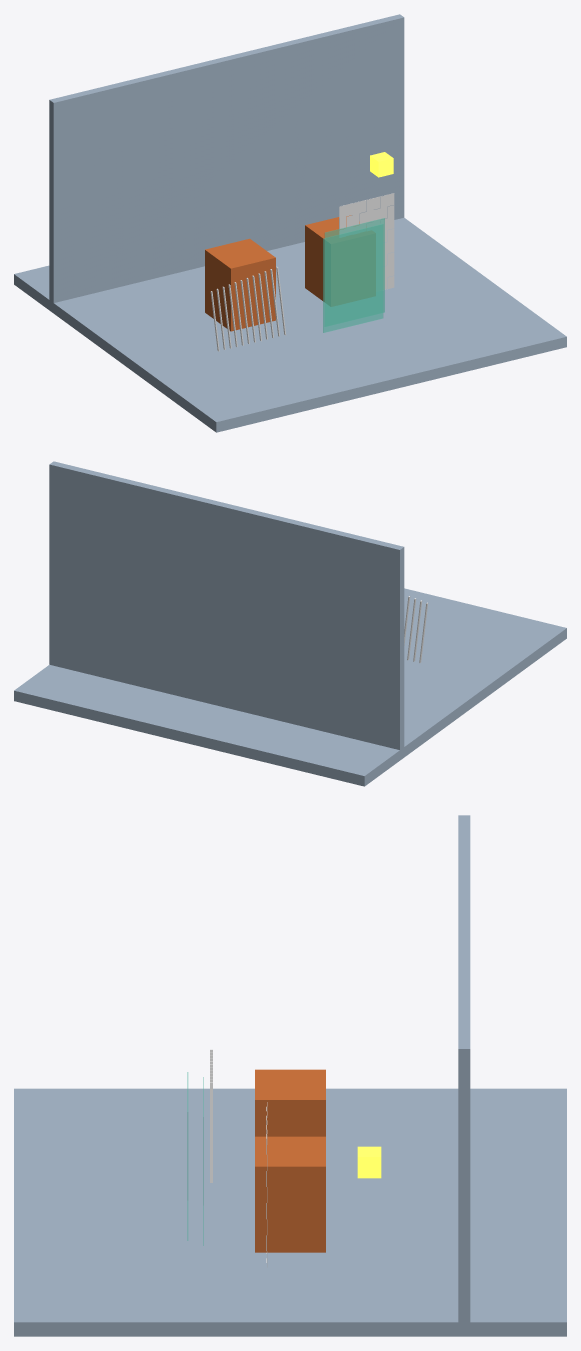
The model's file is taa_coverage.gltf.
3 renders of one model, top to bottom at view 1: azimuth 30°, elevation 25°; view 2: azimuth 150°, elevation 25°; view 3: azimuth 270°, elevation 25°, orthographic. The views are drawn at different scales.
Visible parts, largest first — view 1: Back wall, Floor, Glass front, Glass back, Double sided cube, Moving cube, Alpha checker, Emitter; view 2: Back wall, Floor; view 3: Floor, Double sided cube, Back wall, Moving cube, Emitter.
Part boxes in pixels (<box>): Back wall: <box>49,14,404,311</box>; Floor: <box>14,217,566,432</box>; Glass front: <box>323,224,383,332</box>; Glass back: <box>324,218,384,326</box>; Double sided cube: <box>305,215,375,306</box>; Moving cube: <box>205,238,275,331</box>; Alpha checker: <box>339,193,394,291</box>; Emitter: <box>370,152,393,177</box>; Back wall: <box>49,461,404,759</box>; Floor: <box>14,588,566,786</box>; Floor: <box>14,1088,566,1336</box>; Double sided cube: <box>255,1136,325,1252</box>; Back wall: <box>458,815,470,1335</box>; Moving cube: <box>255,1069,325,1136</box>; Emitter: <box>357,1146,381,1178</box>.
Bounding box in the file's own units: 7 × 4.44 × 7.
Materials: 7 (1 with a texture image).
